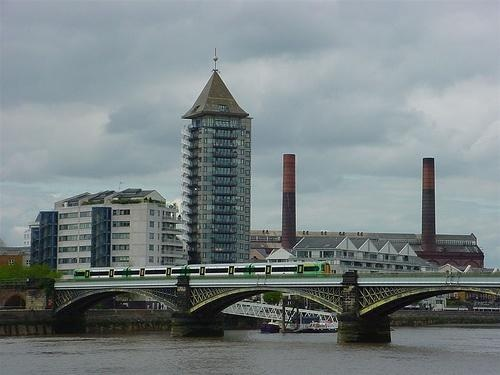boat: (262, 312, 342, 337)
train: (72, 260, 334, 280)
